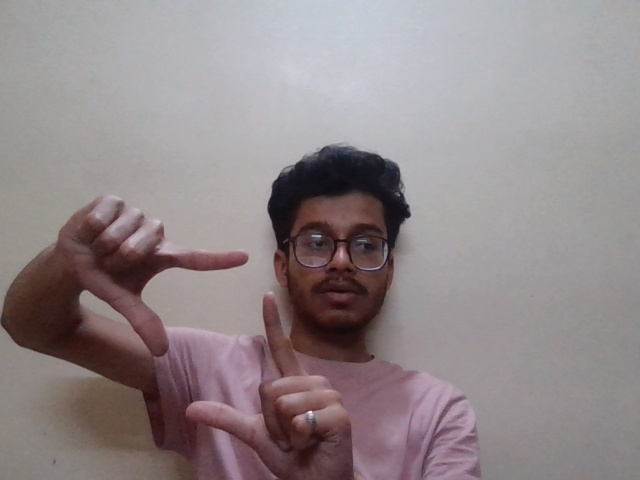video: (52, 188, 357, 463)
